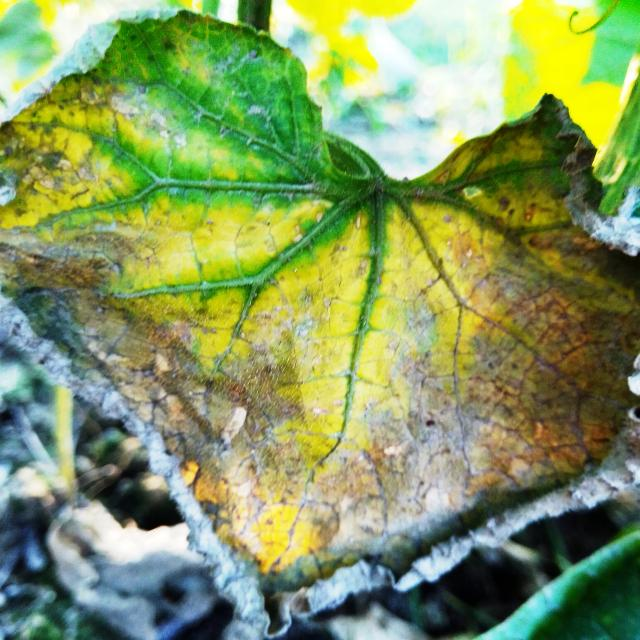Gummy-Stem-Blight: (0, 90, 640, 640)
